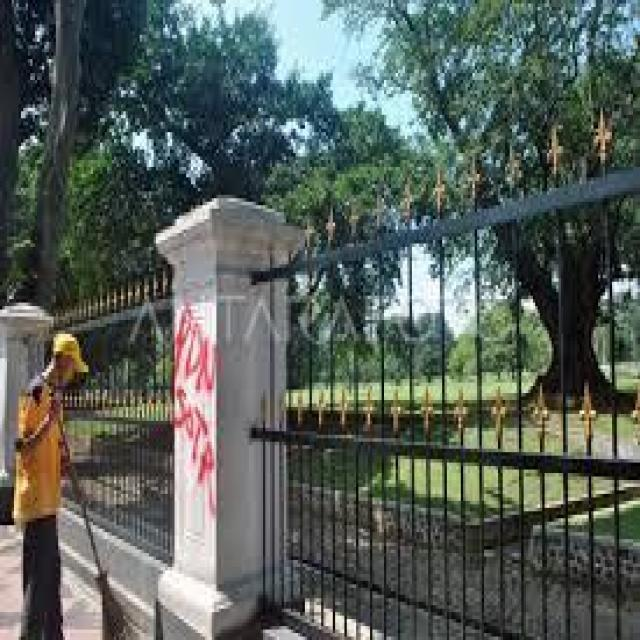nonspitting: (172, 302, 219, 482)
